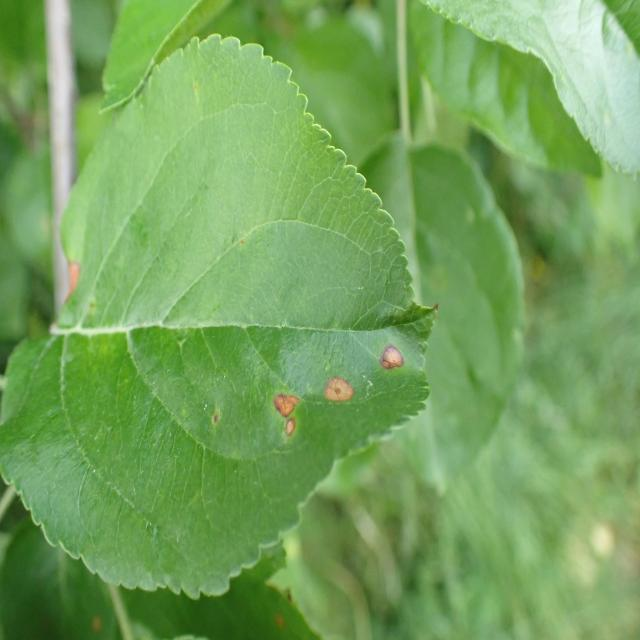Black Rot: (365, 328, 422, 412), (318, 355, 362, 433), (261, 378, 299, 456), (59, 264, 94, 318), (197, 392, 226, 430)
